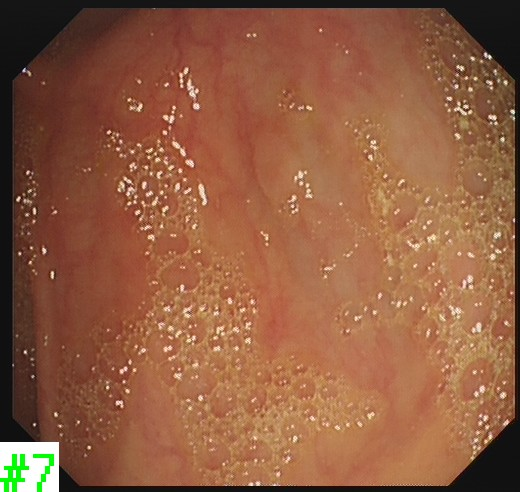adenoma: (249, 127, 305, 210)
